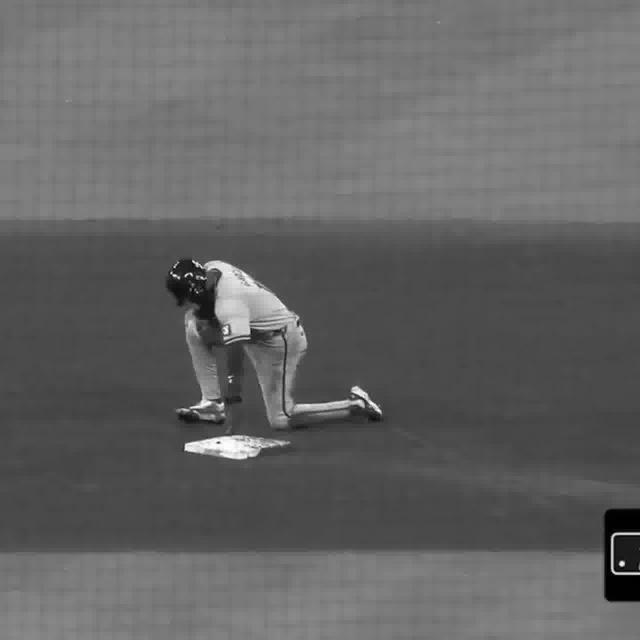base: (180, 440, 290, 459)
shoe: (352, 384, 390, 421), (179, 400, 228, 419)
